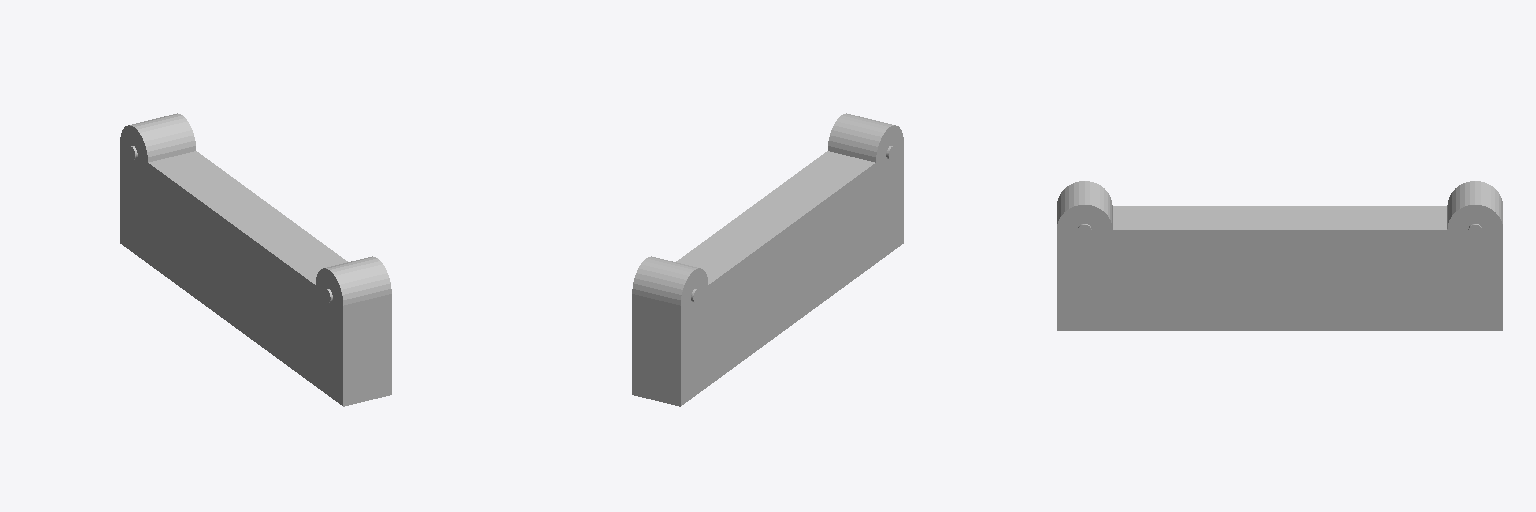
The model's file is body_palm_lpinvrpin.obj.
3 renders of one model, left to right at view 1: azimuth 30°, elevation 25°; view 2: azimuth 150°, elevation 25°; view 3: azimuth 270°, elevation 25°, orthographic.
Visible parts, largest first — view 1: body_palm_lpinvrpin_Cube.660; view 2: body_palm_lpinvrpin_Cube.660; view 3: body_palm_lpinvrpin_Cube.660.
Boxes of the visible parts, x1,y1,x2,y2 form: body_palm_lpinvrpin_Cube.660: [120, 113, 391, 406]; body_palm_lpinvrpin_Cube.660: [632, 113, 903, 406]; body_palm_lpinvrpin_Cube.660: [1057, 181, 1502, 330].
Bounding box in the file's own units: 0.022 × 0.05 × 0.16.